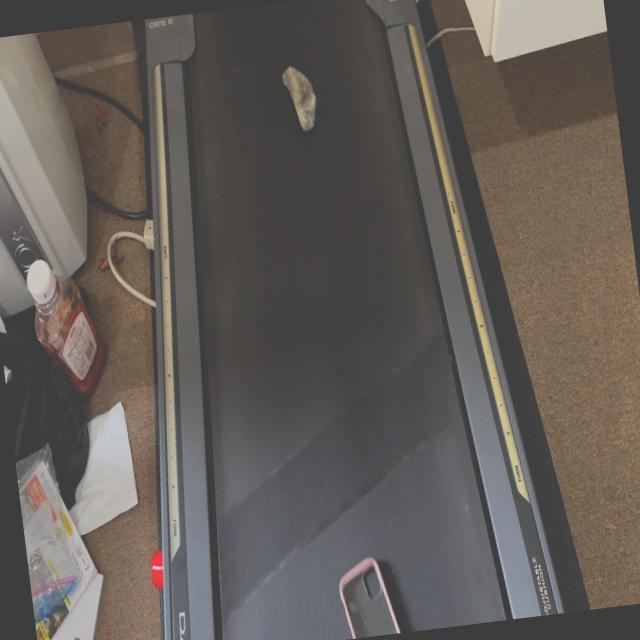Trash: (280, 64, 321, 136)
